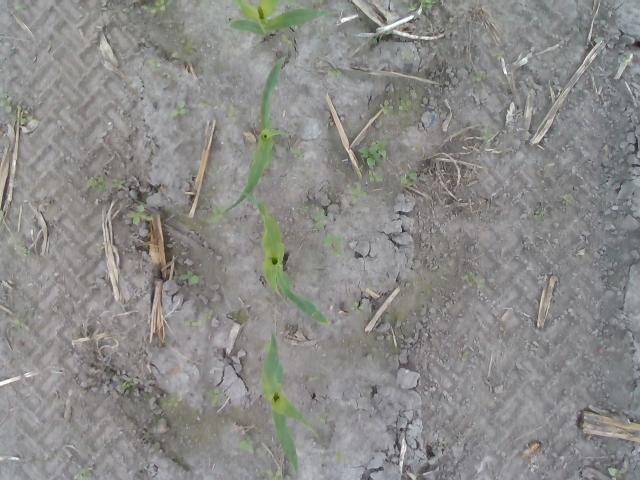Maize: (240, 192, 328, 326), (222, 47, 288, 214), (260, 334, 324, 476), (227, 0, 331, 40)
Weeds: (0, 92, 34, 126), (356, 140, 390, 168), (318, 231, 347, 259), (301, 205, 328, 231), (140, 0, 176, 17), (396, 88, 416, 114), (126, 205, 152, 224), (82, 174, 106, 193), (462, 270, 487, 288), (177, 270, 204, 286), (349, 178, 368, 200), (260, 464, 285, 480), (238, 433, 256, 454), (207, 386, 224, 407), (351, 300, 368, 321), (170, 100, 189, 118), (210, 206, 228, 224), (228, 96, 240, 122), (158, 396, 179, 410), (606, 466, 626, 480), (400, 170, 417, 186), (378, 99, 394, 116), (123, 6, 145, 18), (368, 169, 386, 183), (560, 191, 578, 205), (76, 463, 90, 480), (14, 0, 31, 14), (418, 0, 441, 10), (334, 448, 348, 464), (480, 128, 495, 142), (112, 177, 128, 190), (280, 32, 293, 48), (326, 68, 342, 80), (182, 320, 204, 328), (146, 59, 160, 71), (535, 206, 545, 222), (473, 70, 487, 81), (202, 308, 214, 320), (286, 0, 304, 8), (120, 382, 134, 392), (95, 244, 106, 255), (0, 208, 8, 223), (400, 50, 412, 60), (407, 2, 418, 12), (318, 415, 328, 425), (293, 152, 304, 161), (15, 320, 25, 329), (318, 0, 330, 7), (494, 51, 502, 60), (22, 249, 32, 256), (622, 56, 630, 64)
